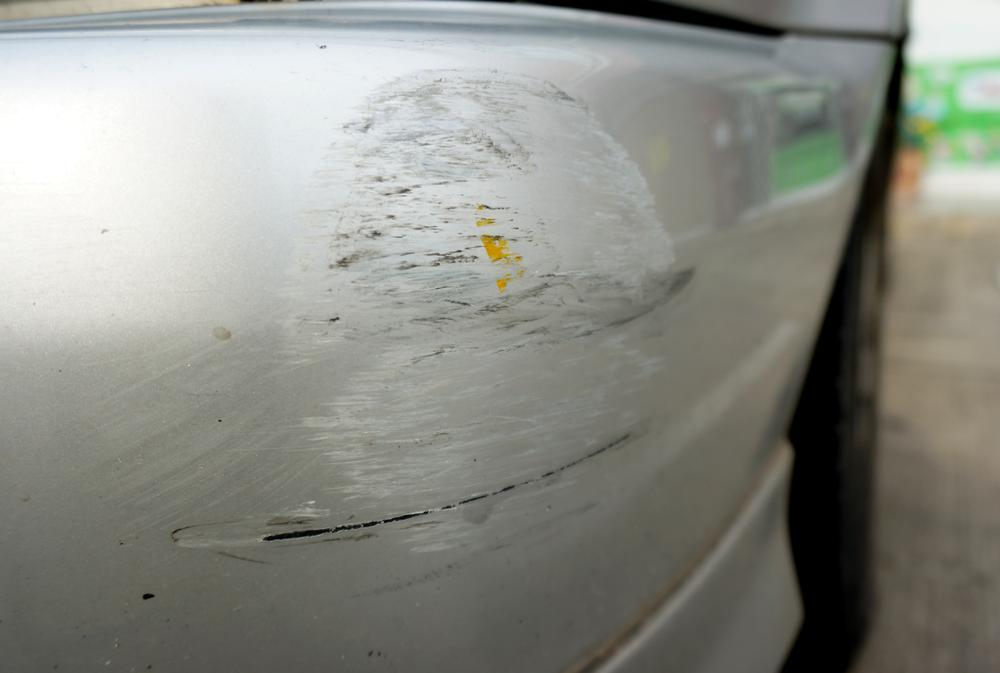scratch: (90, 66, 697, 575)
